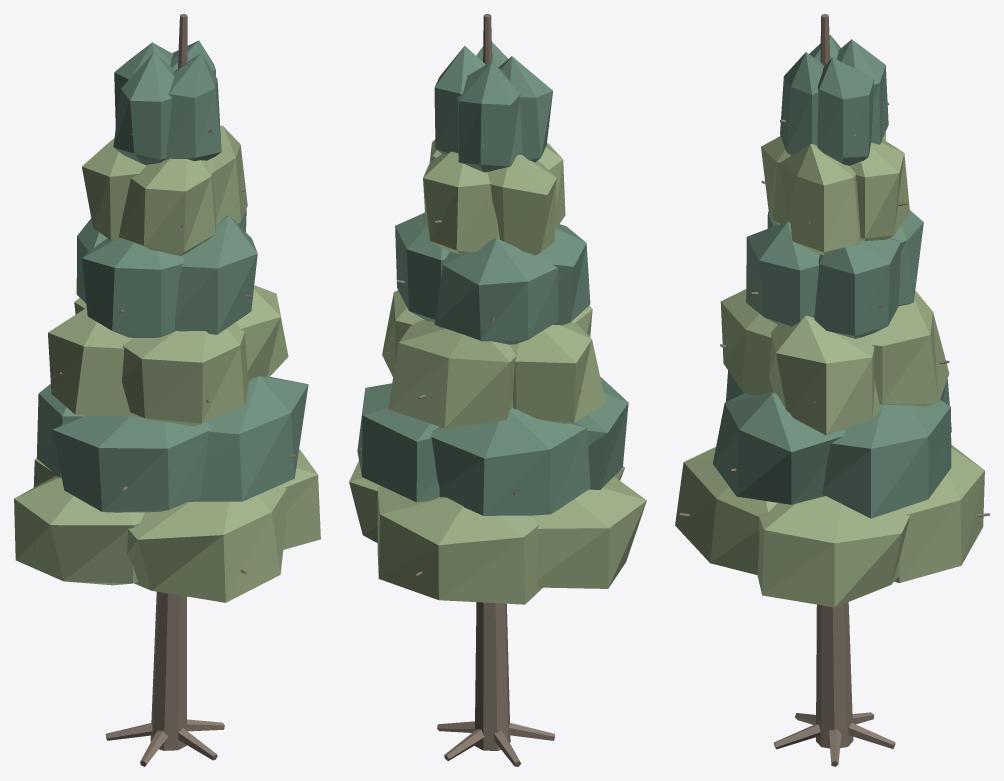
The model's file is cedar-0.glb.
3 renders of one model, left to right at view 1: azimuth 30°, elevation 25°; view 2: azimuth 150°, elevation 25°; view 3: azimuth 270°, elevation 25°, orthographic.
Size of the model in its own units: 8.11 by 20.61 by 8.05.
